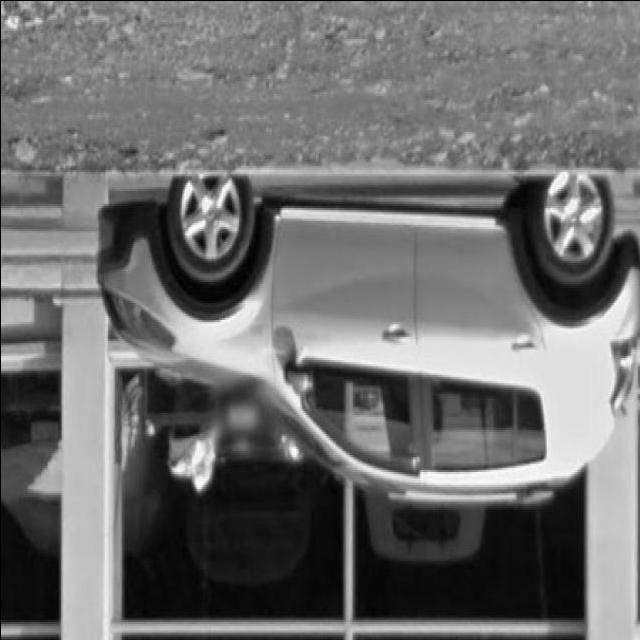car: (90, 169, 638, 507)
